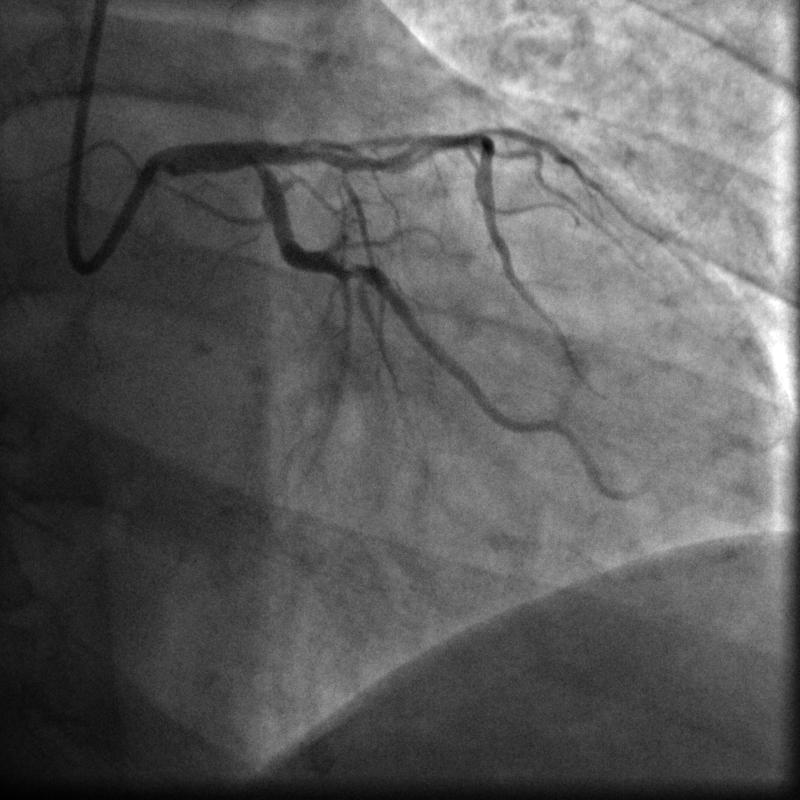Stenosis: (335, 256, 363, 281)
